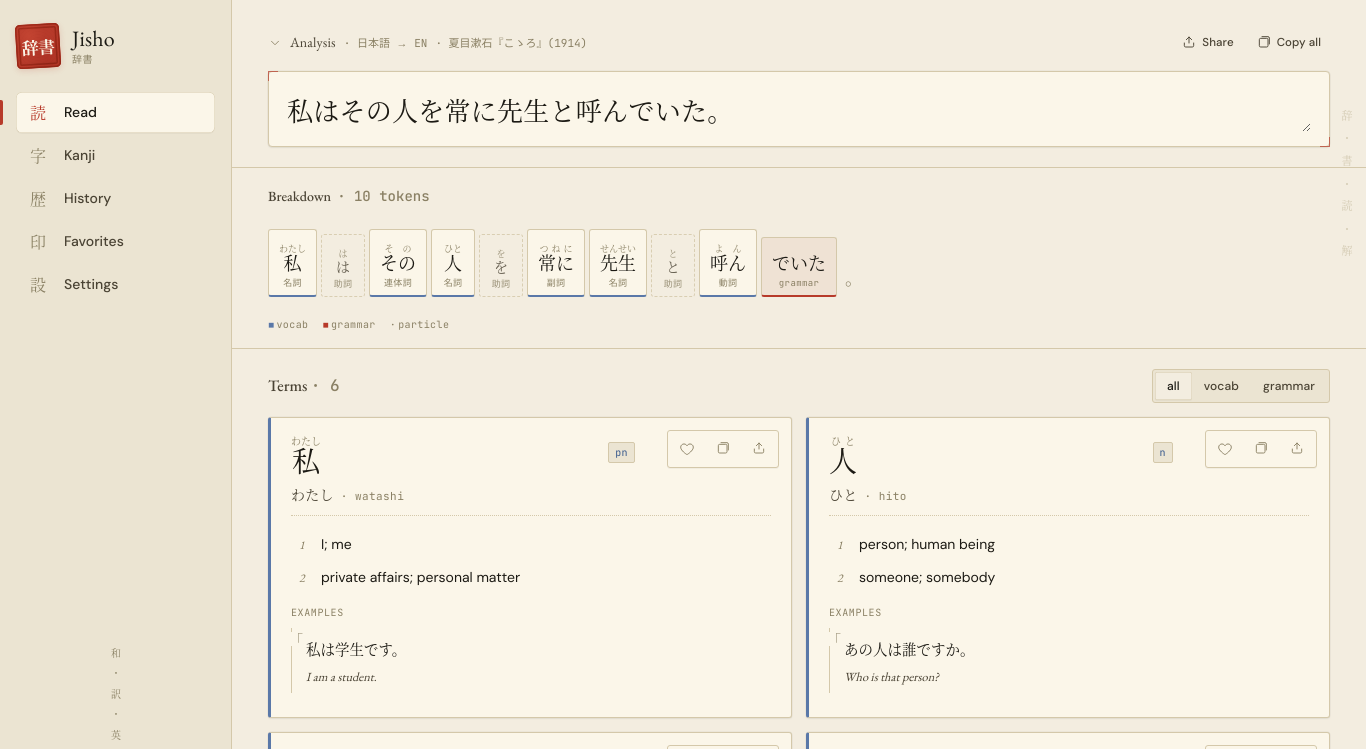
Read screen › typing a non-demo sentence wipes the breakdown and shows the empty hint
The image size is (1366, 749).
Replace the text in the text box with placeholder "日本語 or English · type or paste to look up" with "知らない文章" at (799, 110), box [287,88,1311,132]
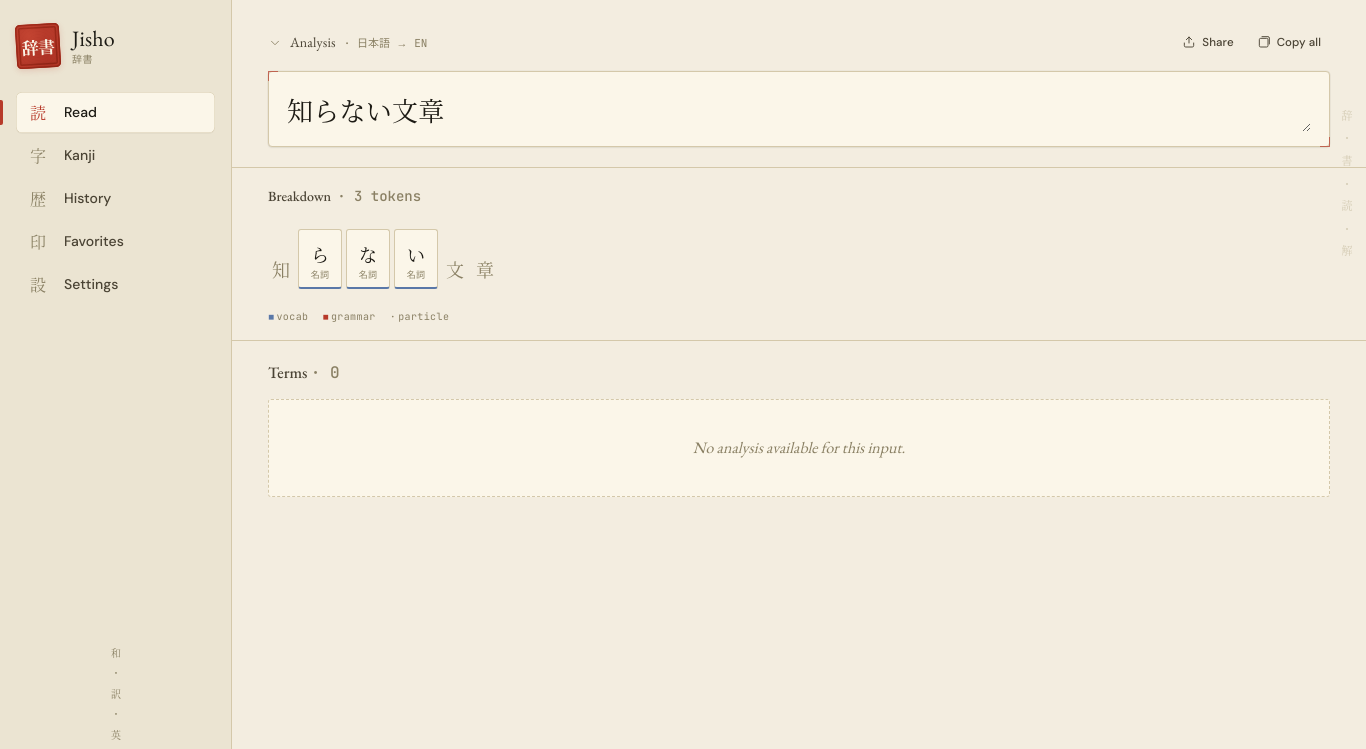
Expected: the text "No analysis available for this input." is shown, [268,399,1330,497]
